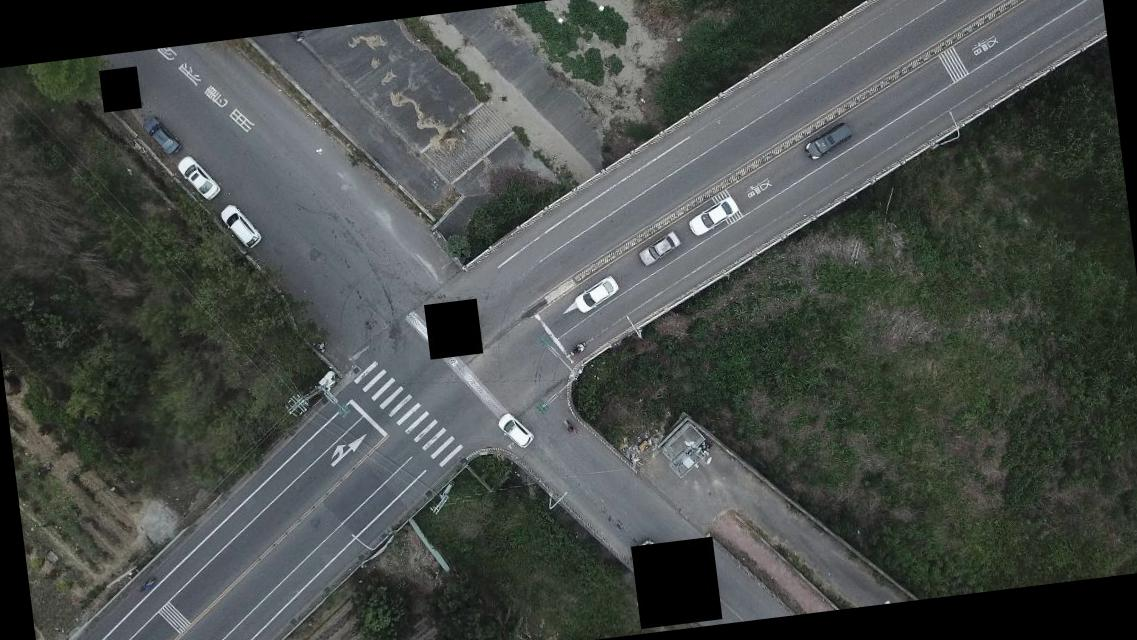vehicle: (176, 150, 220, 204), (218, 201, 262, 253), (800, 118, 853, 161), (684, 196, 740, 236), (568, 272, 621, 314), (139, 110, 182, 158), (635, 230, 683, 269), (494, 407, 534, 452)
